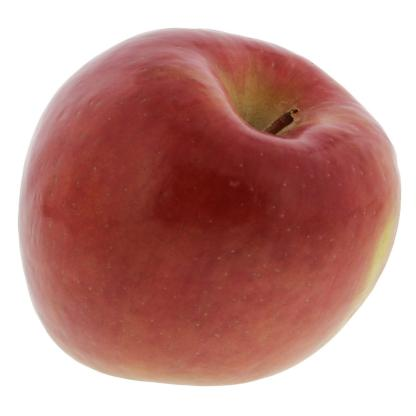apple: (13, 26, 407, 397)
